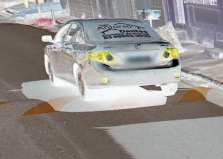car: (40, 18, 182, 97)
